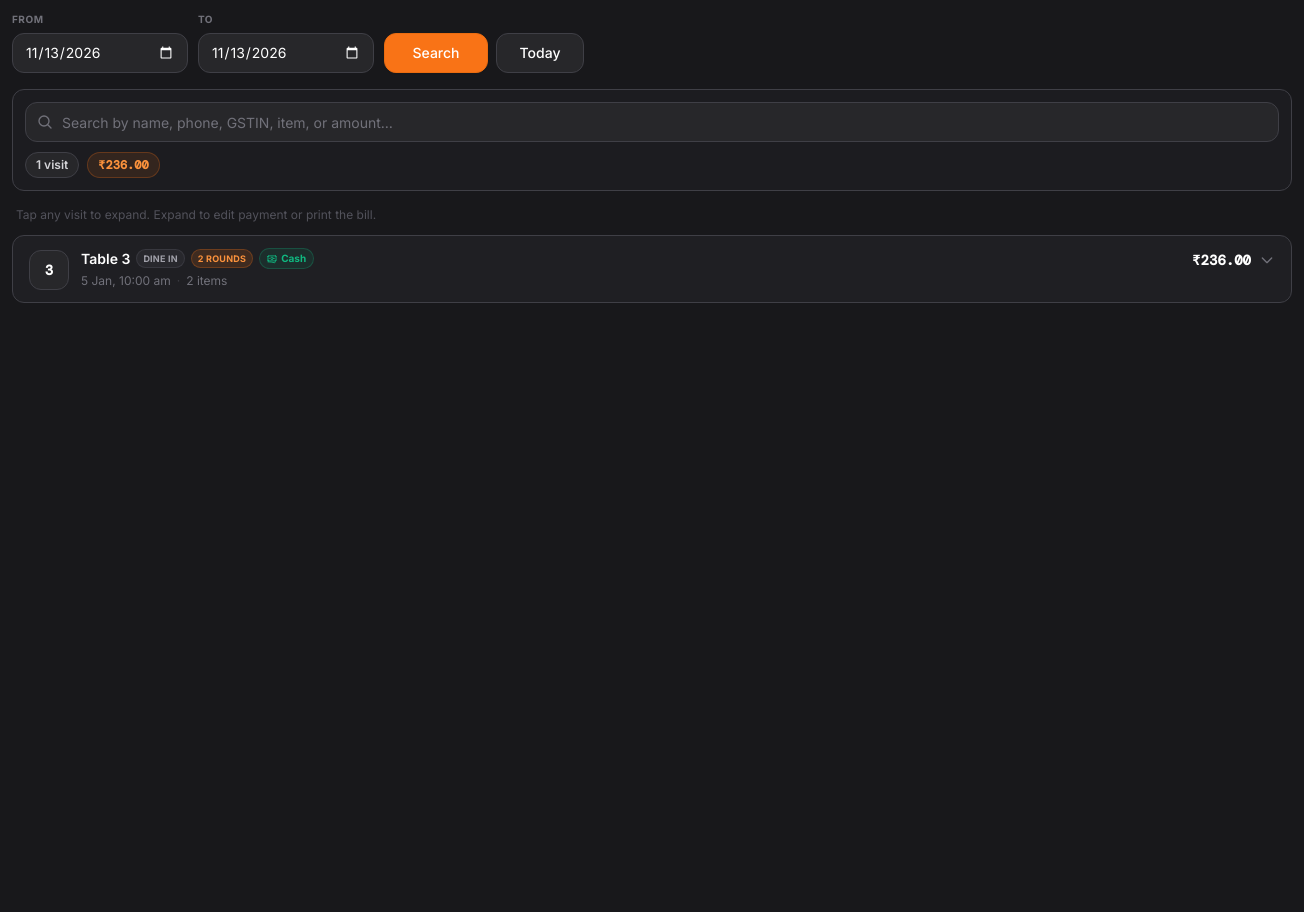
rounds of one visit show as one visit, billed at the rate stored with it, and ask the server for the full limit
The width and height of the screenshot is (1304, 912).
Expected: the text "1 visit" is shown, x1=25 y1=152 x2=79 y2=178
Expected: the text "₹236.00" is shown 2 times, x1=87 y1=152 x2=160 y2=178; x1=1192 y1=248 x2=1251 y2=270
Step 1. Click the button that starts with "Table 3" → click(49, 270), box x1=13 y1=236 x2=1291 y2=302
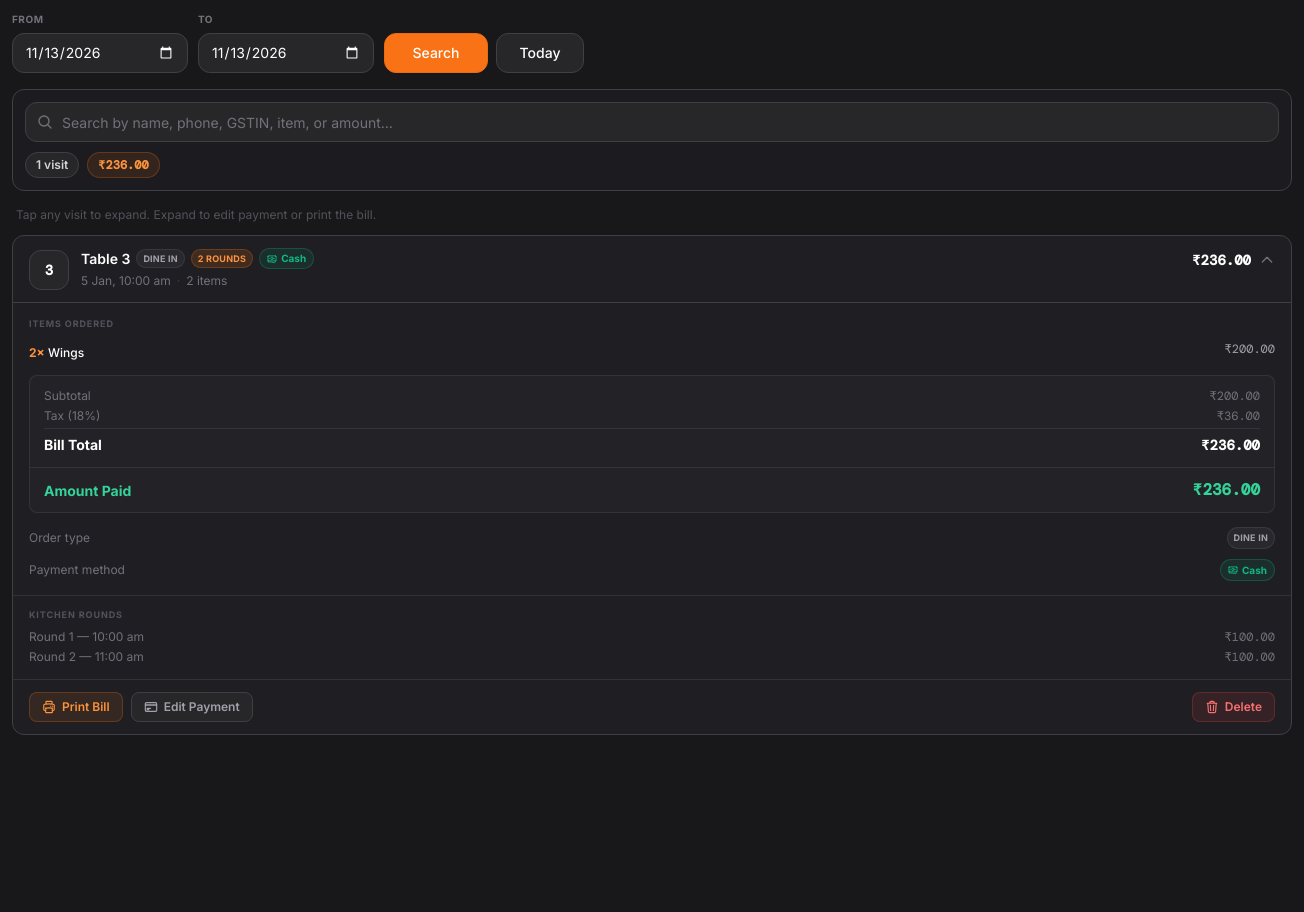
Result: the text "Tax (18%)" is shown at x1=44 y1=408 x2=100 y2=424
